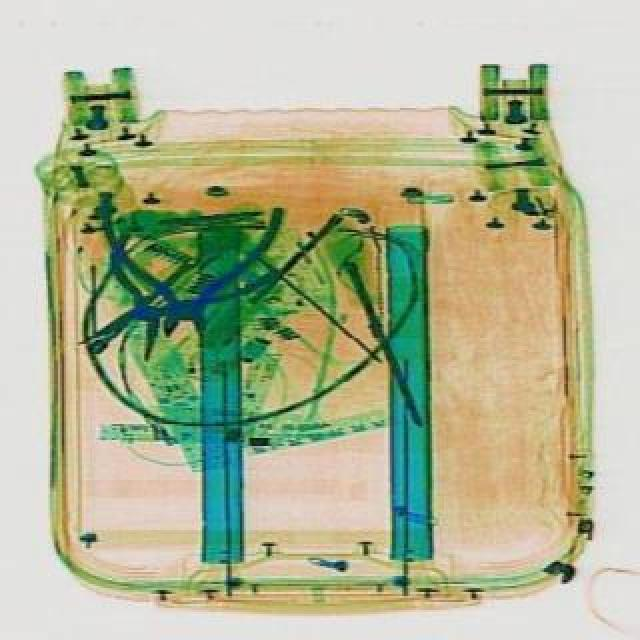wrench: (76, 222, 274, 386), (92, 190, 280, 338)
